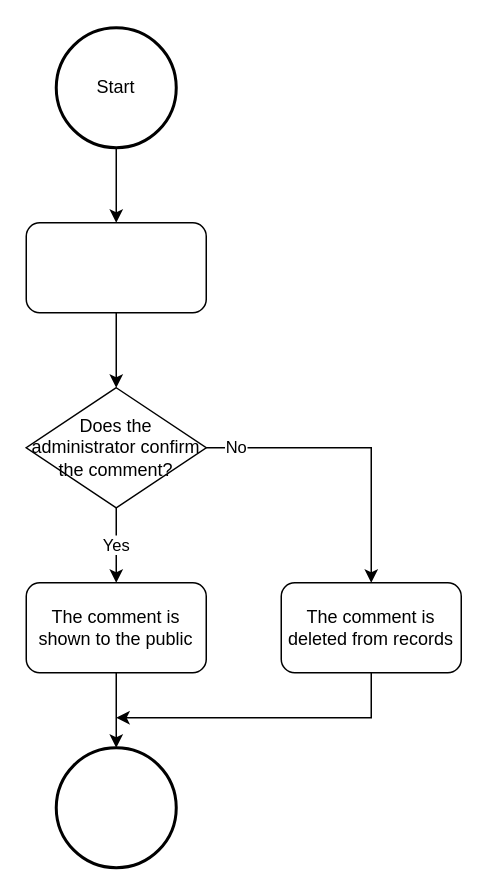
The diagram is 488 pixels wide and 894 high, and some of its shapes have lost their labels. Each missing label, with the box of its shape:
End: (54, 746, 177, 868)
The administrator views unreviewed comments: (25, 221, 206, 313)
